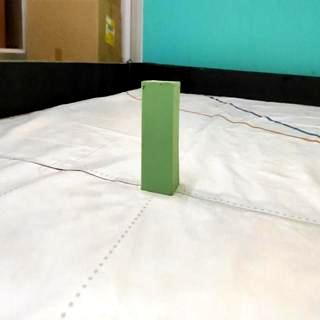greenbox: (140, 80, 180, 197)
